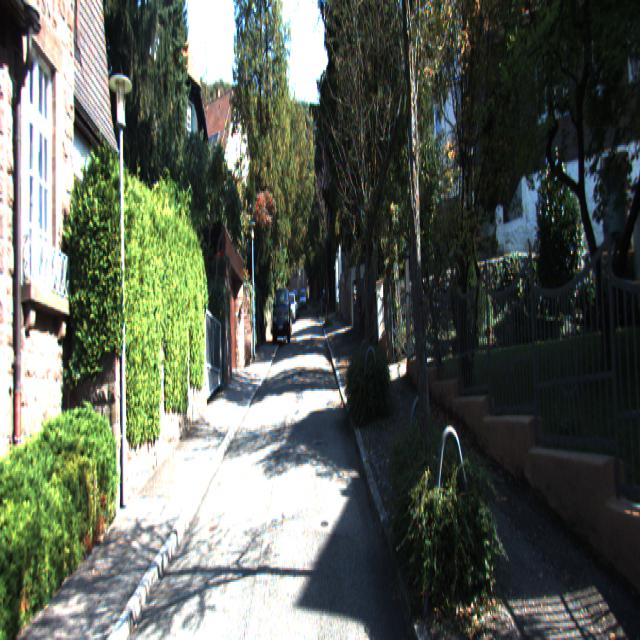Car: (272, 286, 290, 347), (287, 293, 297, 325)
